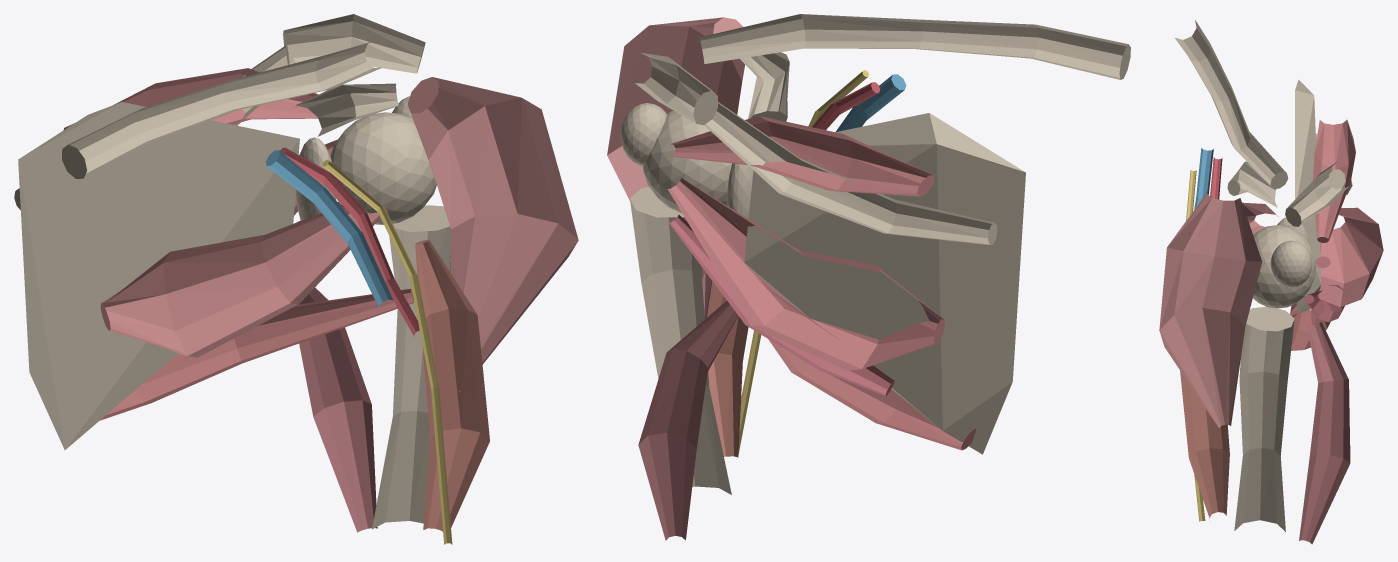
File: regionalny_model_3d_444.glb
3 views of the same model, side by side, from view 1: azimuth 30°, elevation 25°; view 2: azimuth 150°, elevation 25°; view 3: azimuth 270°, elevation 25° (orthographic). The views are drawn at different scales.
Visible parts, largest first — view 1: scapula, deltoid, subscapularis, biceps_brachii, clavicle, humerus, triceps_long, teres_major, humeral_head, acromion, median_nerve, axillary_vein (+5 smaller); view 2: scapula, clavicle, infraspinatus, triceps_long, humerus, scapular_spine, supraspinatus, deltoid, teres_major, humeral_head, biceps_brachii, teres_minor (+7 smaller); view 3: deltoid, humerus, triceps_long, infraspinatus, clavicle, biceps_brachii, scapula, supraspinatus, humeral_head, acromion, greater_tubercle, coracoid (+7 smaller).
Boxes of the visible parts, x1,y1,x2,y2 form: scapula: [18, 102, 299, 449]; deltoid: [407, 77, 578, 393]; subscapularis: [100, 198, 392, 357]; biceps_brachii: [415, 239, 489, 531]; clavicle: [61, 41, 381, 178]; humerus: [372, 205, 451, 531]; triceps_long: [298, 287, 377, 532]; teres_major: [100, 288, 413, 420]; humeral_head: [330, 112, 436, 224]; acromion: [283, 14, 425, 73]; median_nerve: [322, 159, 452, 544]; axillary_vein: [266, 150, 392, 309]; scapula: [744, 113, 1025, 454]; clavicle: [699, 14, 1130, 79]; infraspinatus: [667, 178, 944, 370]; triceps_long: [638, 301, 738, 540]; humerus: [630, 187, 731, 494]; scapular_spine: [704, 100, 997, 244]; supraspinatus: [669, 115, 934, 196]; deltoid: [607, 17, 744, 319]; teres_major: [768, 339, 976, 450]; humeral_head: [642, 110, 731, 213]; biceps_brachii: [702, 268, 748, 457]; teres_minor: [669, 214, 894, 395]; deltoid: [1159, 191, 1262, 428]; humerus: [1234, 306, 1294, 531]; triceps_long: [1299, 322, 1350, 544]; infraspinatus: [1315, 207, 1383, 307]; clavicle: [1175, 20, 1288, 188]; biceps_brachii: [1180, 371, 1229, 518]; scapula: [1295, 79, 1321, 313]; supraspinatus: [1313, 119, 1355, 242]; humeral_head: [1253, 225, 1315, 308]; acromion: [1285, 162, 1349, 226]; greater_tubercle: [1270, 240, 1312, 287]; coracoid: [1227, 161, 1277, 207].
Bounding box in the file's own units: 2.47 × 2.53 × 1.28.
